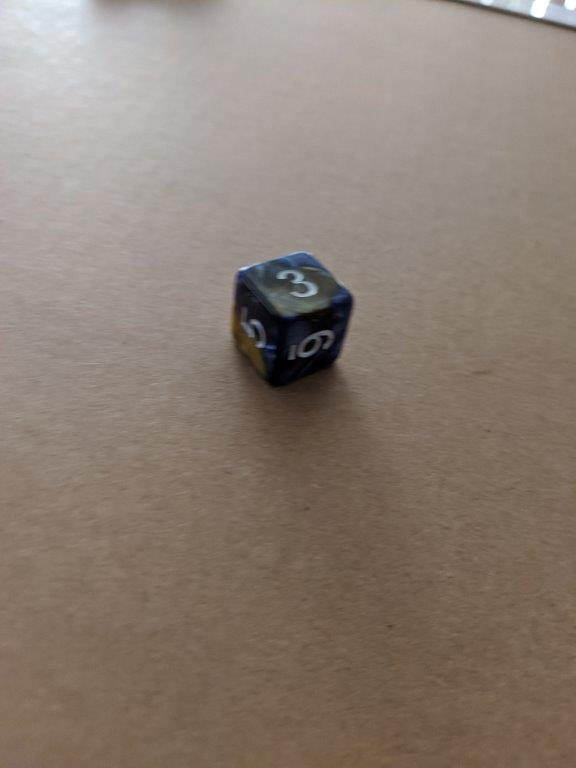d6-3: (227, 247, 355, 391)
